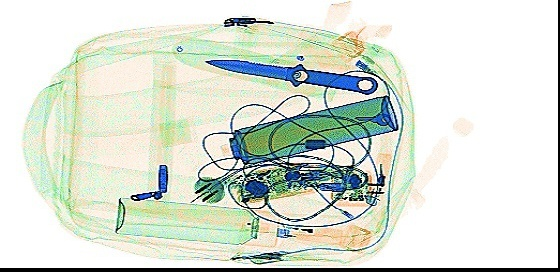knife: (204, 53, 378, 95)
lighter: (273, 219, 343, 246), (362, 148, 392, 206)
pressure: (217, 92, 398, 164), (112, 195, 280, 248)
